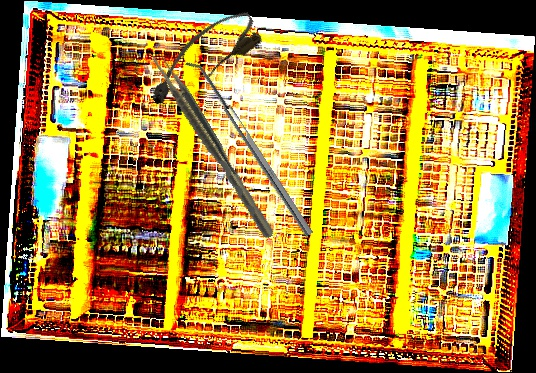Cannula: (136, 2, 267, 113)
Spatula Surgical: (183, 55, 314, 242)
Tissue Forceps: (148, 48, 276, 244)
